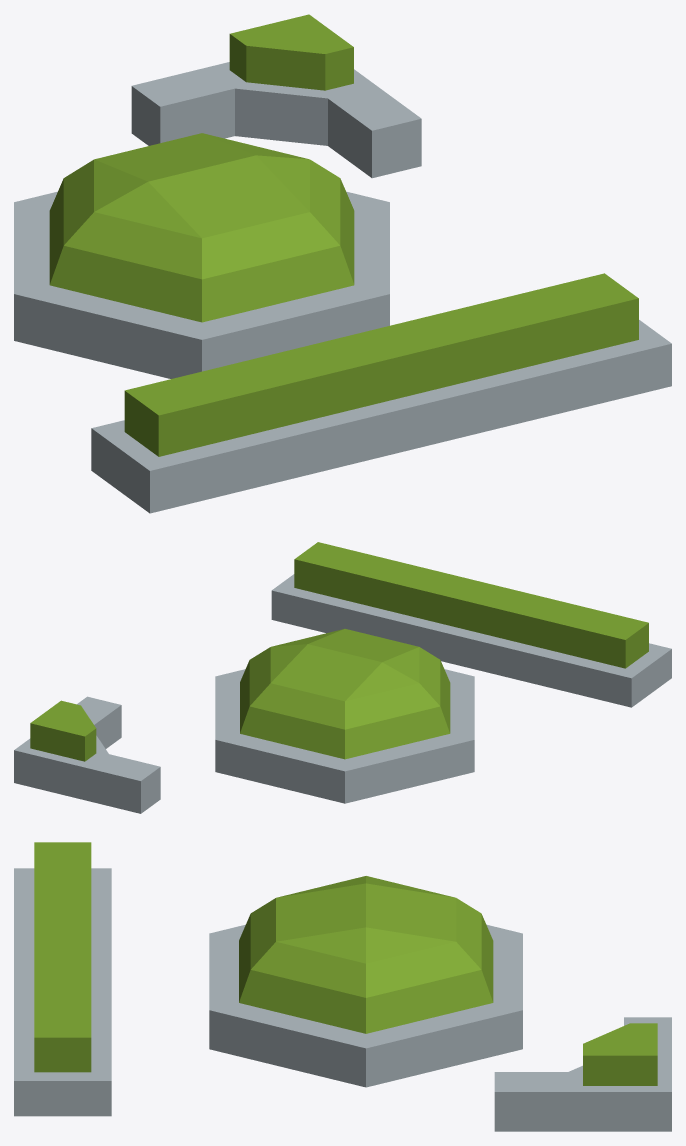
File: huatan_01.FBX
The picture shows the model from 3 angles, top to bottom: view 1: azimuth 30°, elevation 25°; view 2: azimuth 150°, elevation 25°; view 3: azimuth 270°, elevation 25°; orthographic projection. The views are drawn at different scales.
Parts seen in each view (by area): view 1: huatan_01, huatan_03, huatan_02; view 2: huatan_01, huatan_03, huatan_02; view 3: huatan_01, huatan_03, huatan_02.
Part boxes in pixels (box(x1,y1,x2,y2)): huatan_01: box(14, 133, 389, 378); huatan_03: box(91, 273, 671, 513); huatan_02: box(131, 14, 421, 178); huatan_01: box(215, 629, 474, 803); huatan_03: box(271, 542, 671, 707); huatan_02: box(14, 696, 160, 813); huatan_01: box(209, 876, 522, 1087); huatan_03: box(14, 842, 111, 1116); huatan_02: box(494, 1017, 671, 1131).
Size of the model in its own units: 152 by 32.84 by 186.
